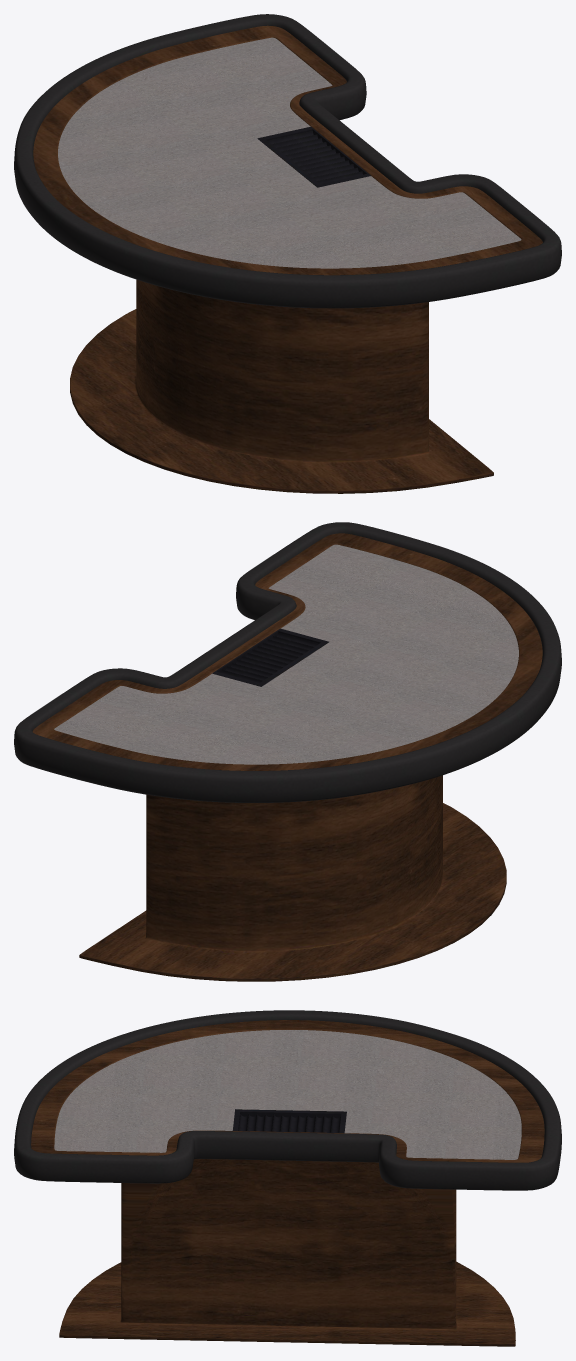
Rendered from dice table.glb.
3 renders of one model, top to bottom at view 1: azimuth 30°, elevation 25°; view 2: azimuth 150°, elevation 25°; view 3: azimuth 270°, elevation 25°, orthographic. The views are drawn at different scales.
Visible parts, largest first — view 1: Blackjack Table.001; view 2: Blackjack Table.001; view 3: Blackjack Table.001.
Boxes of the visible parts, x1,y1,x2,y2 form: Blackjack Table.001: (14,14,561,493); Blackjack Table.001: (14,522,561,981); Blackjack Table.001: (14,1010,561,1346).
Size of the model in its own units: 14.98 by 8.89 by 21.79.
Materials: 2 (2 with a texture image).
